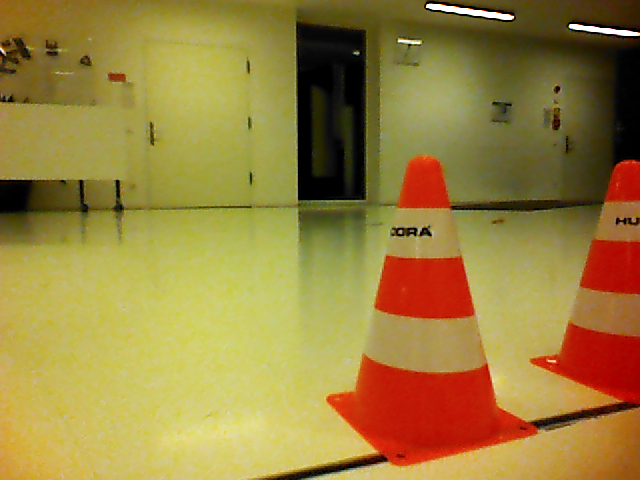orangeconesmall: (351, 154, 503, 443), (559, 157, 640, 394)
